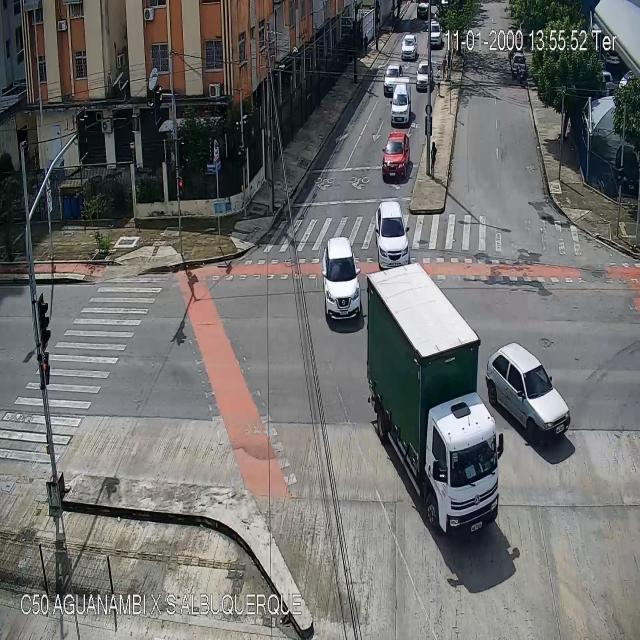Car: (487, 343, 571, 447), (321, 236, 362, 320), (374, 198, 410, 268), (383, 132, 409, 183), (390, 84, 410, 125), (416, 62, 435, 90), (384, 65, 401, 94), (426, 20, 441, 49), (401, 35, 416, 60), (511, 52, 526, 74)
Motorcycle: (517, 62, 524, 85)
Truck: (368, 262, 504, 531)
